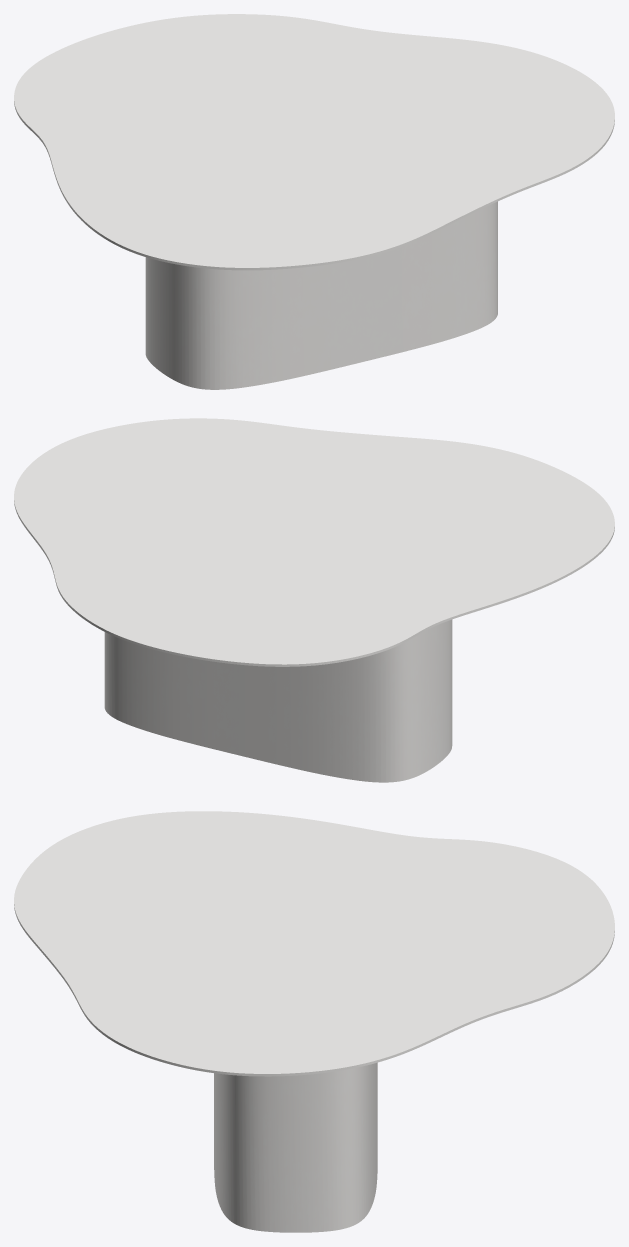
The model's file is purewhite_topone_facet_fixed.glb.
3 views of the same model, one above another, from view 1: azimuth 30°, elevation 25°; view 2: azimuth 150°, elevation 25°; view 3: azimuth 270°, elevation 25° (orthographic). The views are drawn at different scales.
Visible parts, largest first — view 1: facet_topone, fixed; view 2: facet_topone, fixed; view 3: facet_topone, fixed.
Boxes of the visible parts, bbox=[...] form: facet_topone: bbox=[14, 14, 614, 270]; fixed: bbox=[145, 201, 497, 389]; facet_topone: bbox=[14, 418, 614, 666]; fixed: bbox=[104, 619, 452, 782]; facet_topone: bbox=[14, 811, 614, 1076]; fixed: bbox=[214, 1062, 377, 1232].
Bounding box in the file's own units: 6.83 × 2.5 × 6.6.
Materials: 1 (1 with a texture image).
